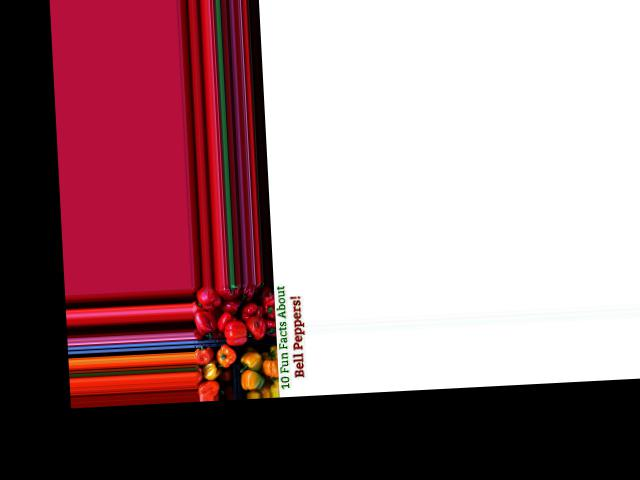bell_pepper: (257, 293, 279, 325)
